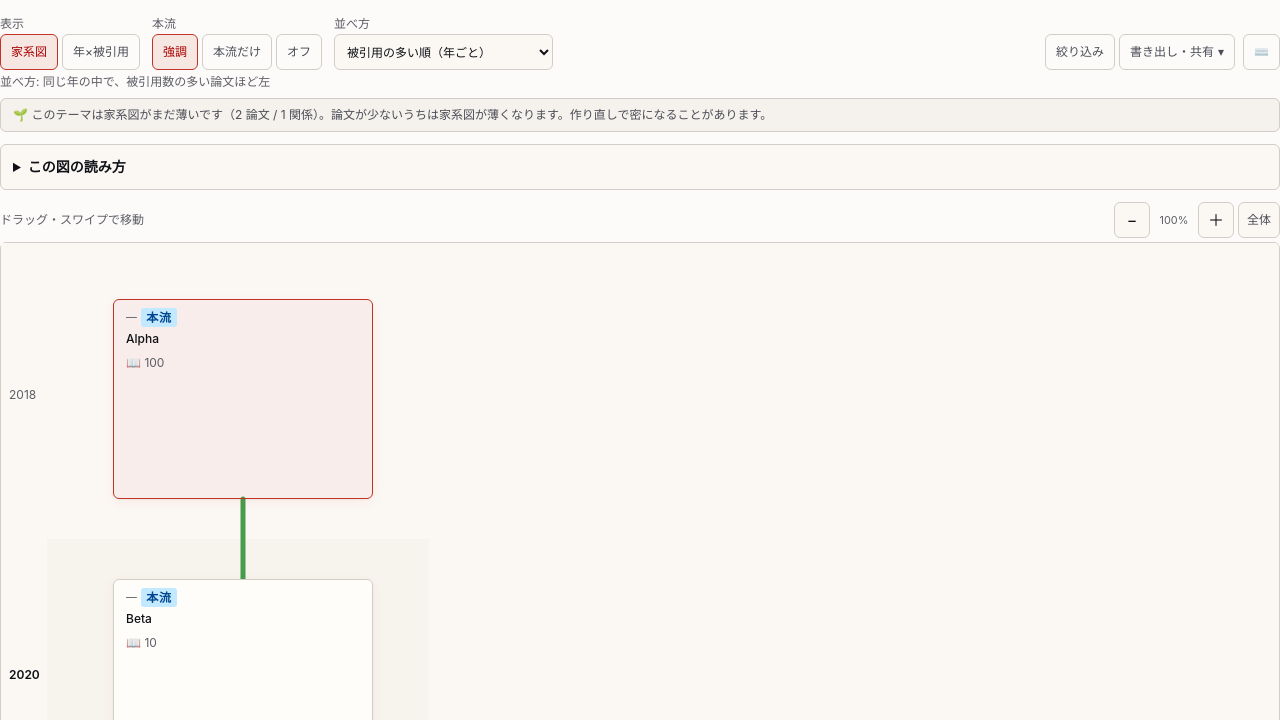
keyboard help dialog › returns focus to the toolbar button after a mouse click that did not focus it (Safari)
This screenshot has width=1280, height=720.
Click the button named "キーボード操作の一覧" at (1262,52), box [1243,34,1279,70]
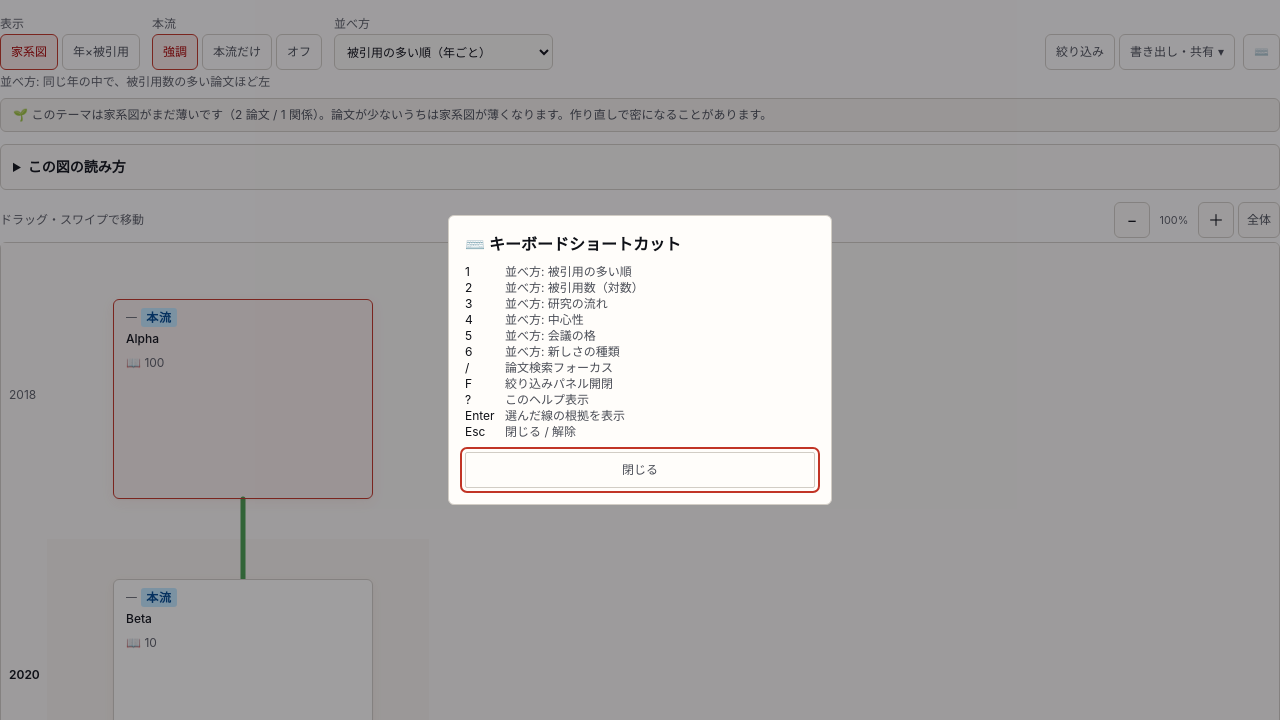
Press Escape in the dialog "キーボードショートカット"
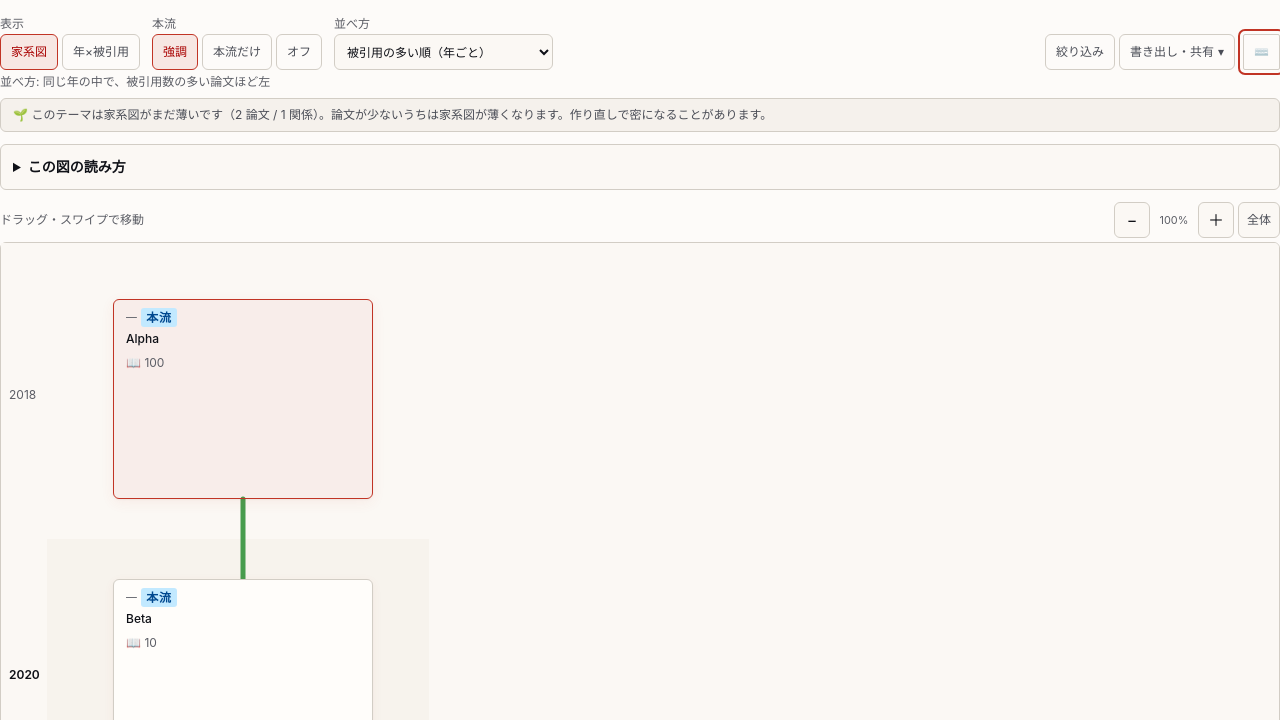
Now the heading "キーボードショートカット" is gone
